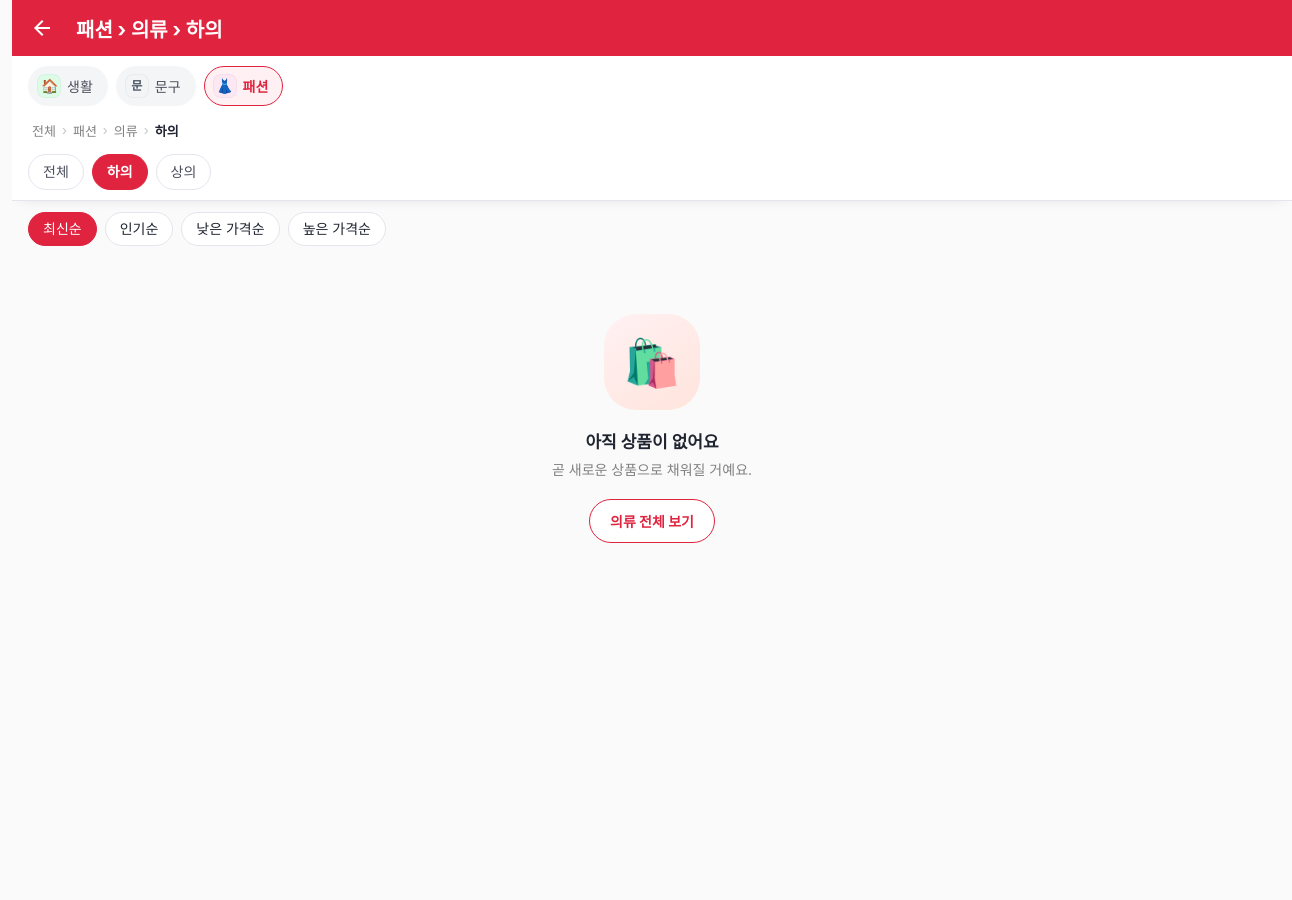
Scenario: ProductListPage › offers the parent category on an empty depth-3 list
Expected: the text "아직 상품이 없어요" is shown, [585,432,719,452]
Click the button "의류 전체 보기" at (652, 521), box [589,499,715,543]
(page scrolled)
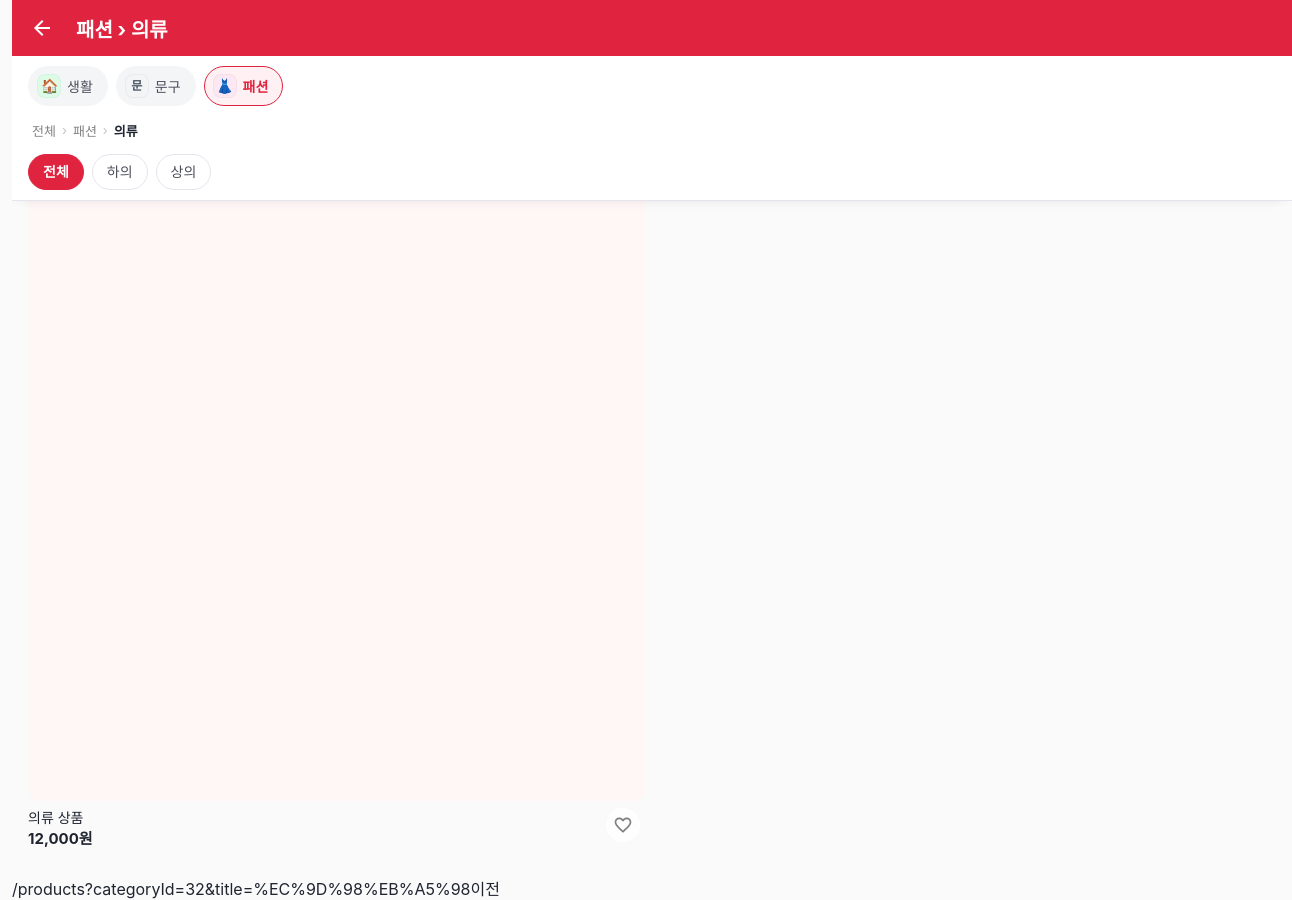
Result: the text "의류 상품" is shown at [28,809,84,826]
